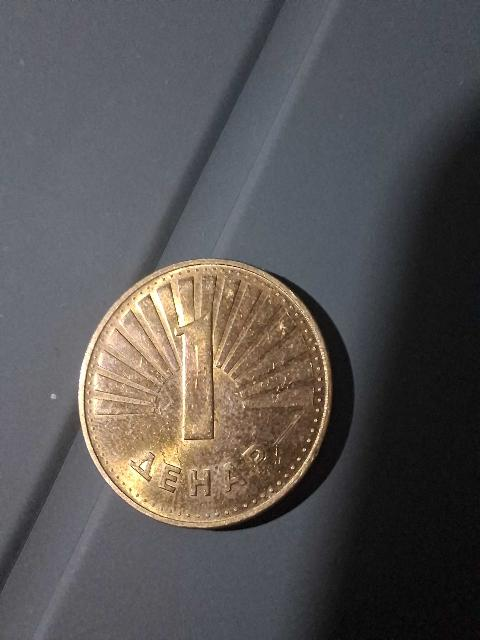1_coin: (80, 260, 331, 527)
